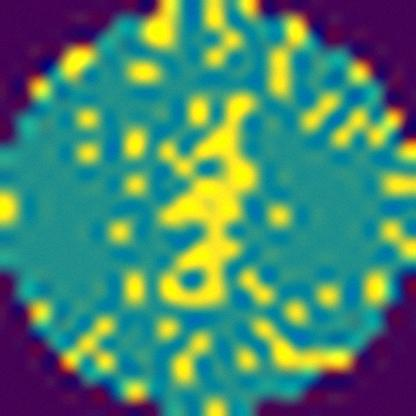Center: (160, 93, 259, 310)
